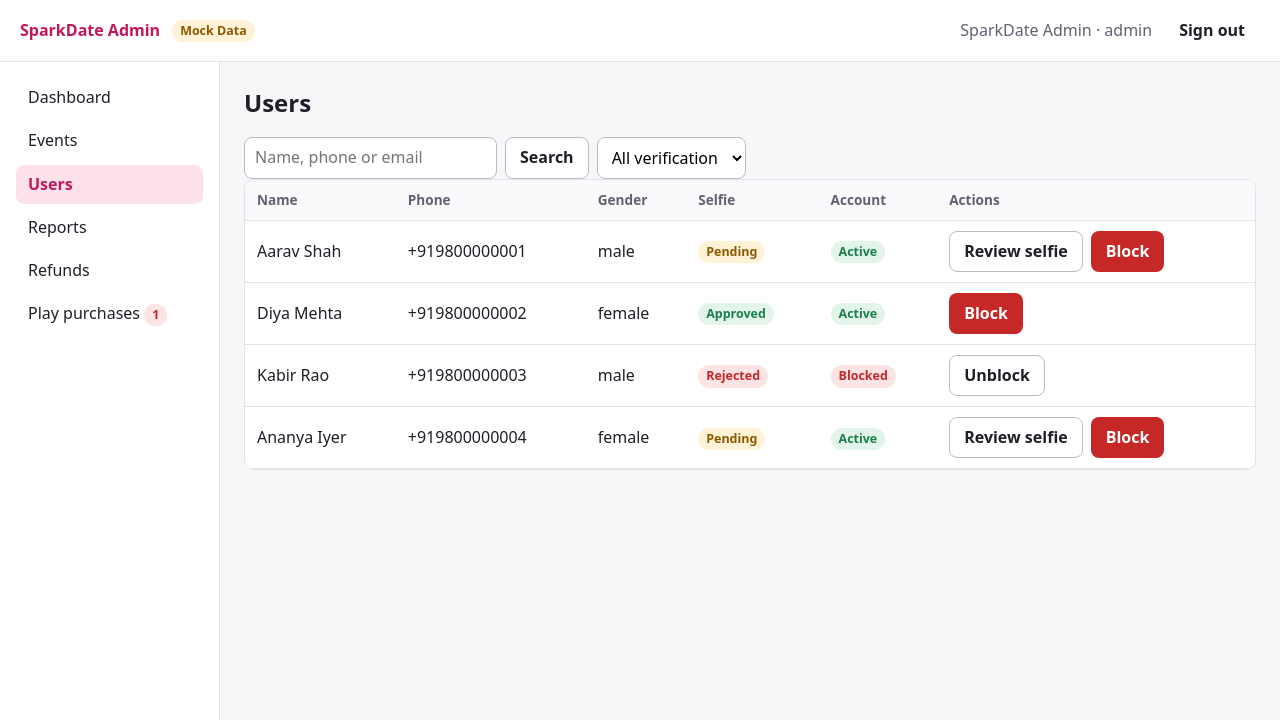
Test: pages (mock API) › approves a pending selfie
Step 1. Click the button with aria-label "Review selfie of Aarav Shah" → [1016, 251], box top-left (949, 231), bottom-right (1083, 272)
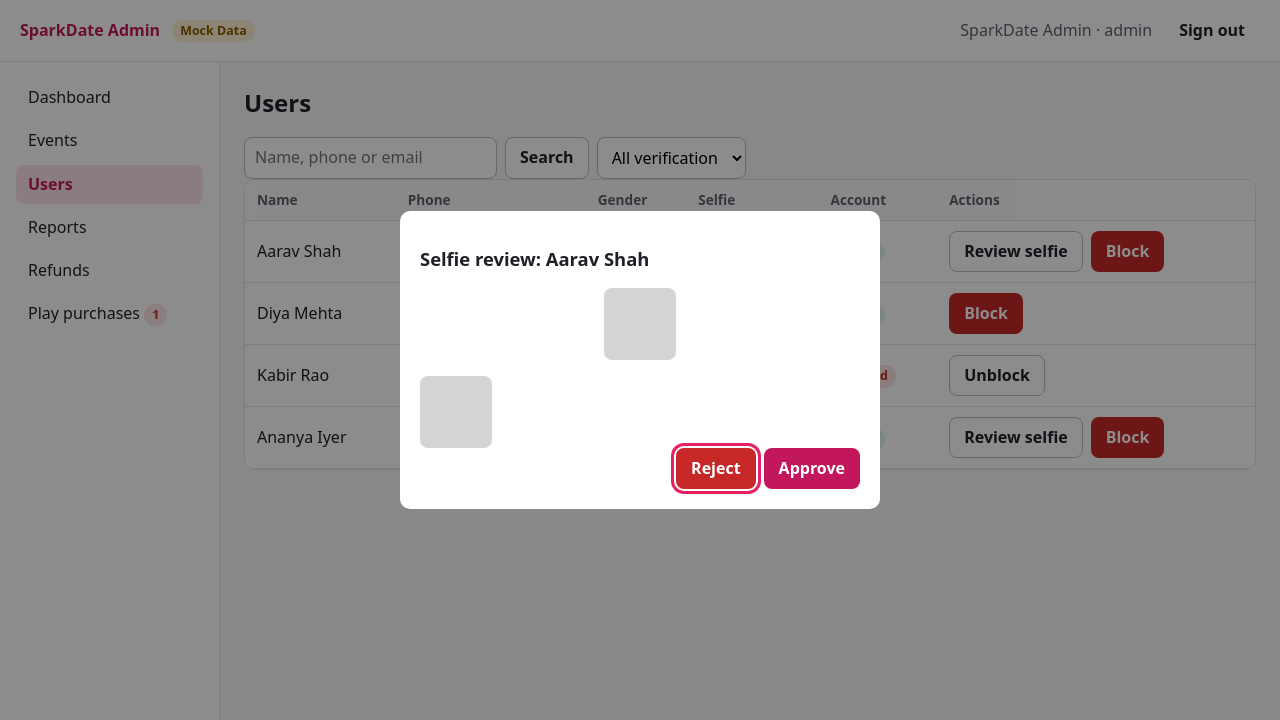
Step 2. Click the button "Approve" → [812, 469], box top-left (764, 448), bottom-right (860, 489)
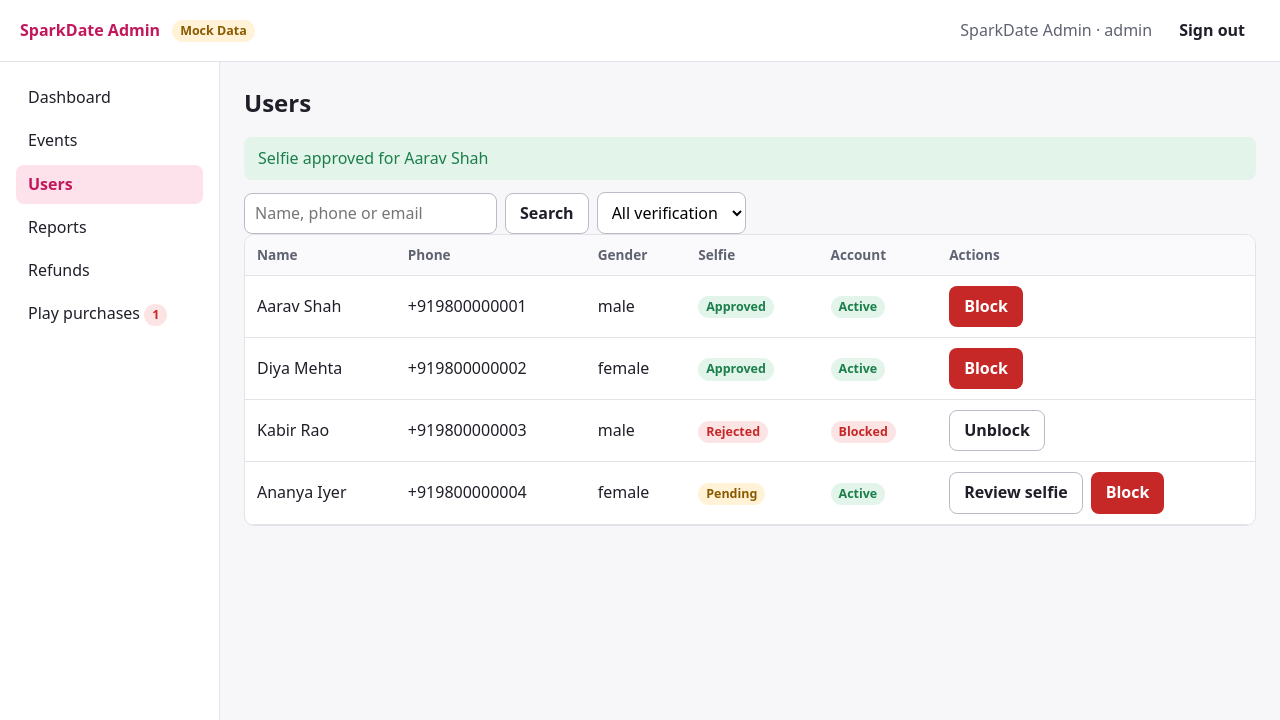
expect the text "Selfie approved for Aarav Shah" is shown: met, box top-left (244, 137), bottom-right (1256, 180)
